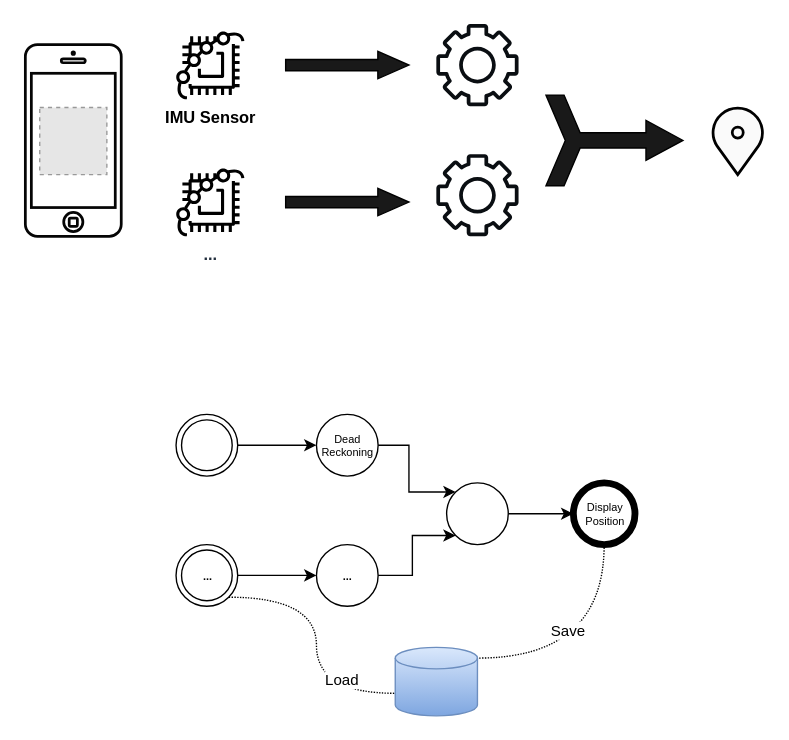
Image size: 789x740. Some labels were removed from this diagram. Grey dashed boxes stand in for pictures. The centre of each missing label's shape, as x and y in pixels:
"Data Service" belongs at point 435,681.
"IMU Source" belongs at point 206,444.
"Merge Frames" belongs at point 476,513.
